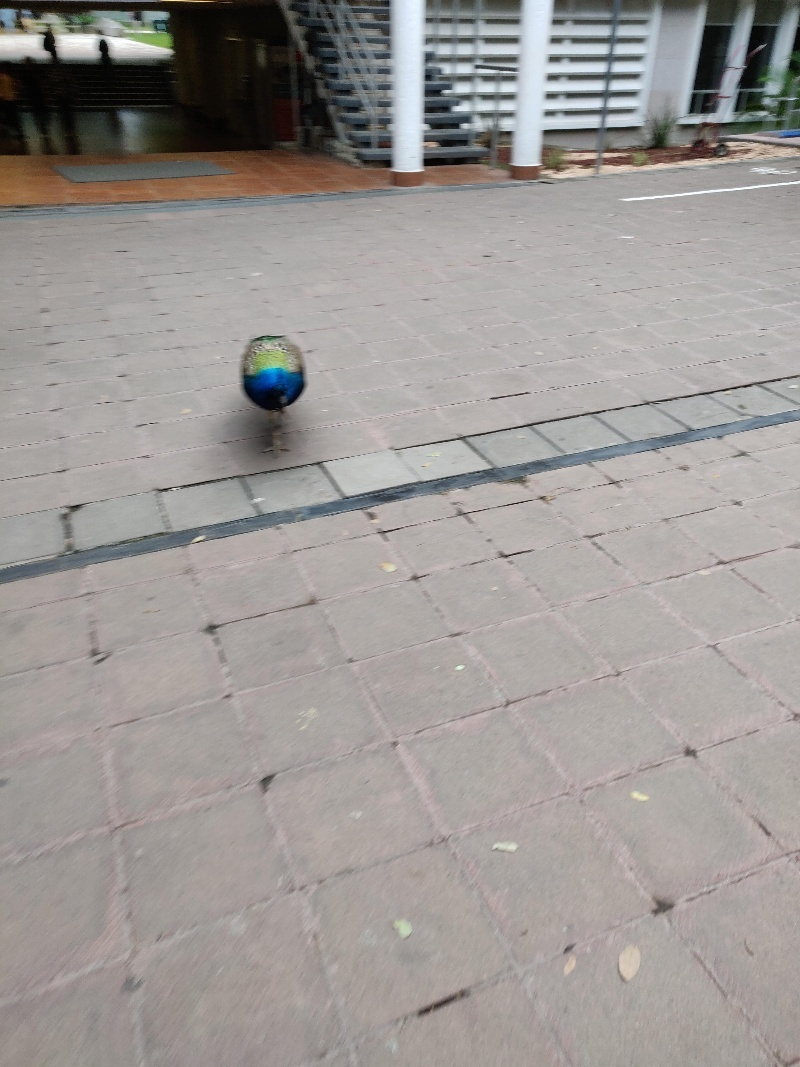pavoreal: (237, 334, 305, 449)
